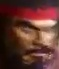ryu: (5, 4, 57, 67)
